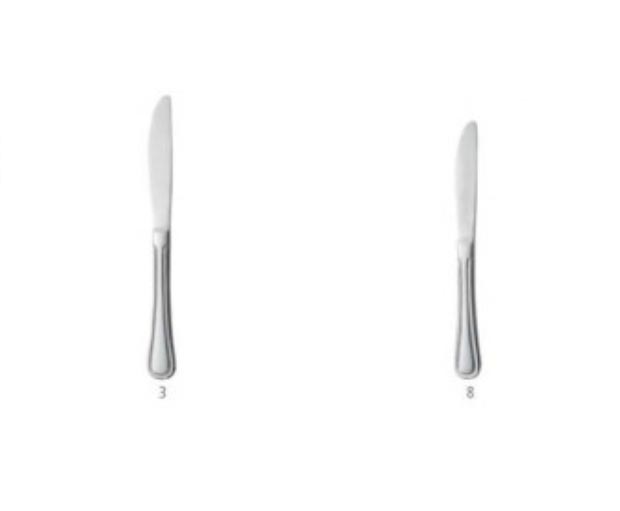Noz: (148, 91, 176, 233), (454, 119, 482, 253)
